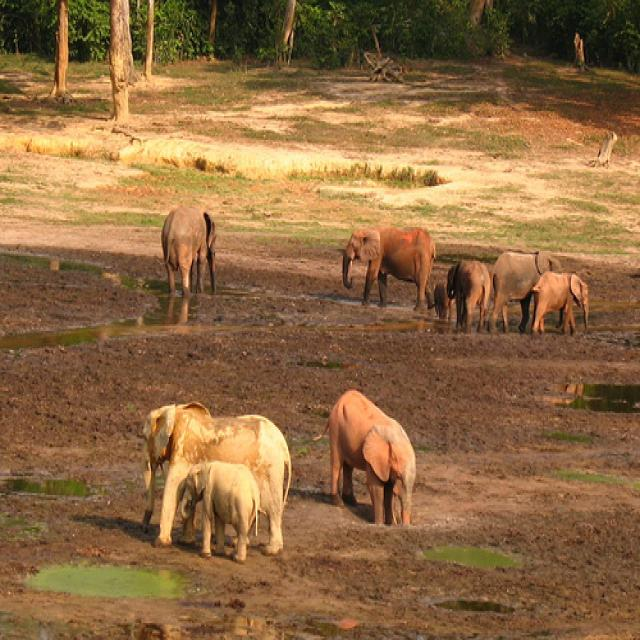Elephant: (144, 406, 290, 556), (314, 388, 416, 526), (141, 400, 210, 532), (176, 459, 260, 563), (342, 224, 435, 310), (488, 249, 560, 333), (160, 205, 216, 295), (530, 270, 589, 334), (446, 258, 490, 333)
